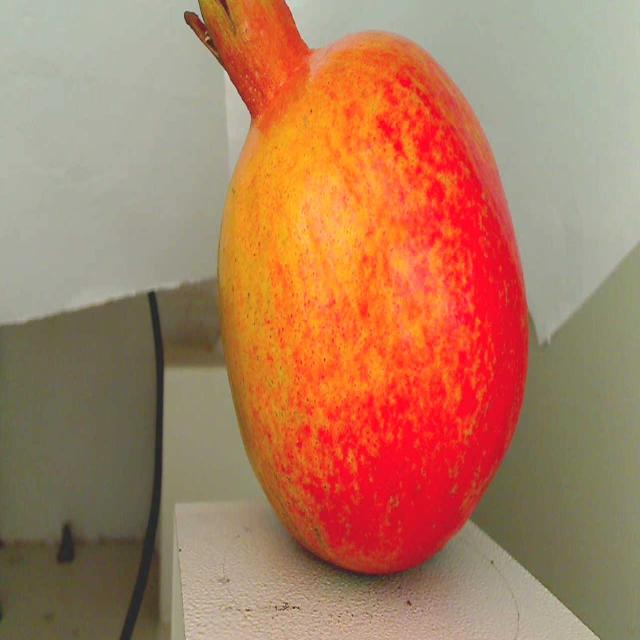pomegranate: (174, 0, 538, 584)
